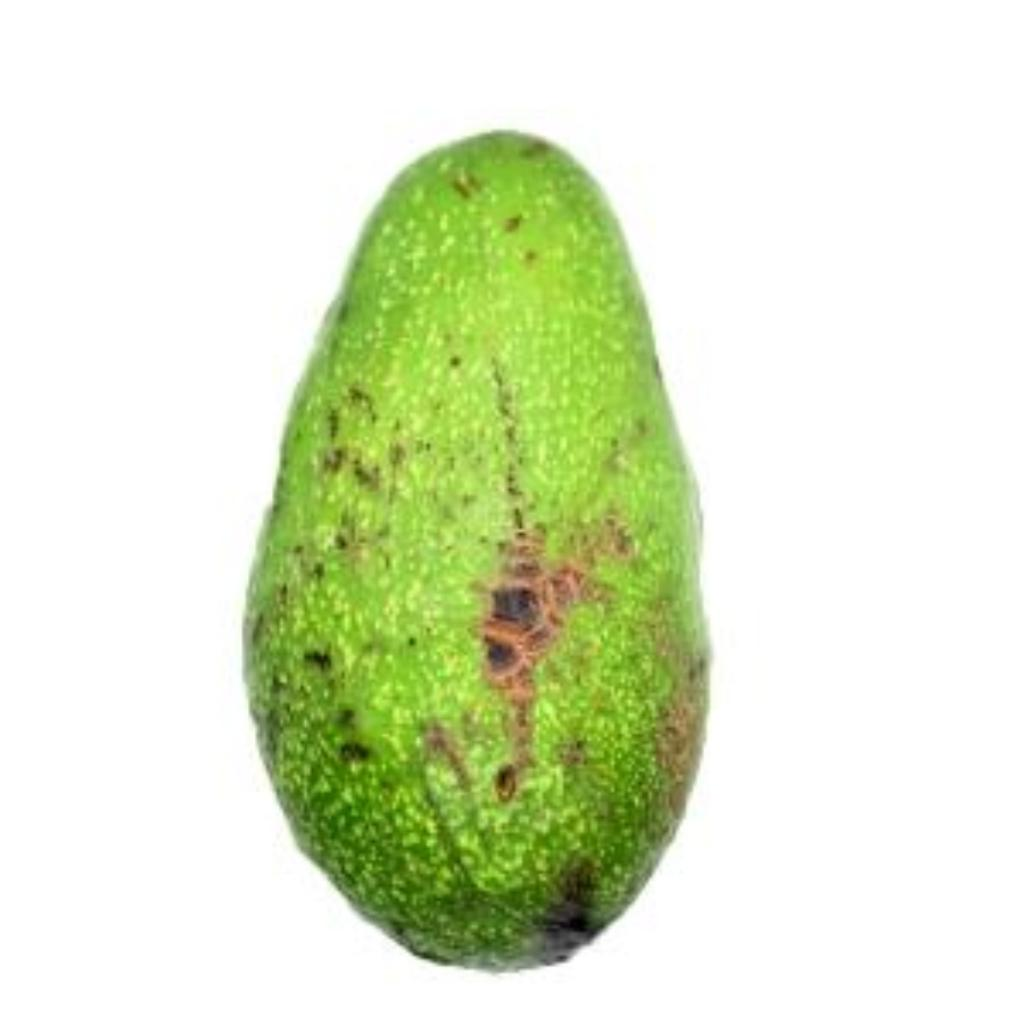cercospora_spot: (236, 113, 724, 983)
